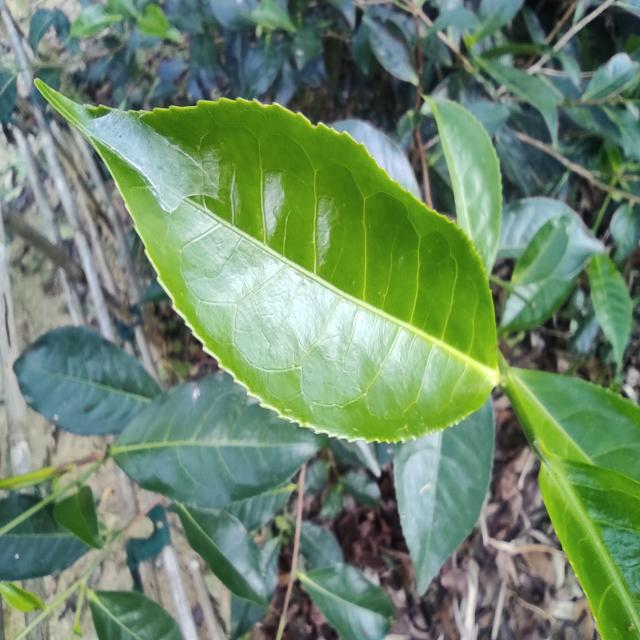Category D(7+ days, Not for Tea): (25, 59, 508, 469)
